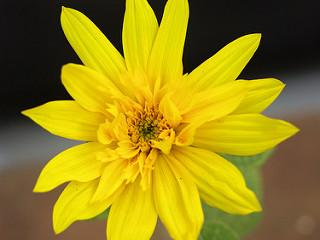sunflower: (21, 2, 298, 240)
